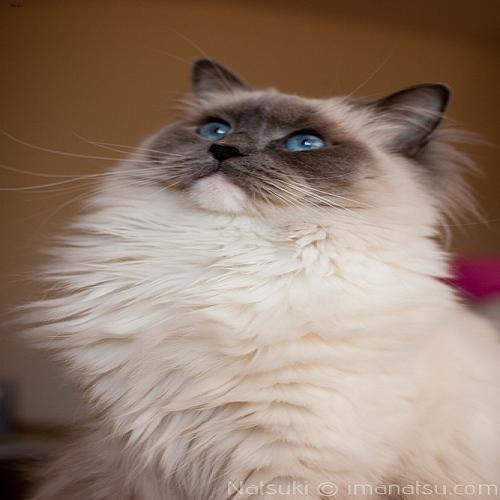ragdoll: (111, 60, 458, 239)
